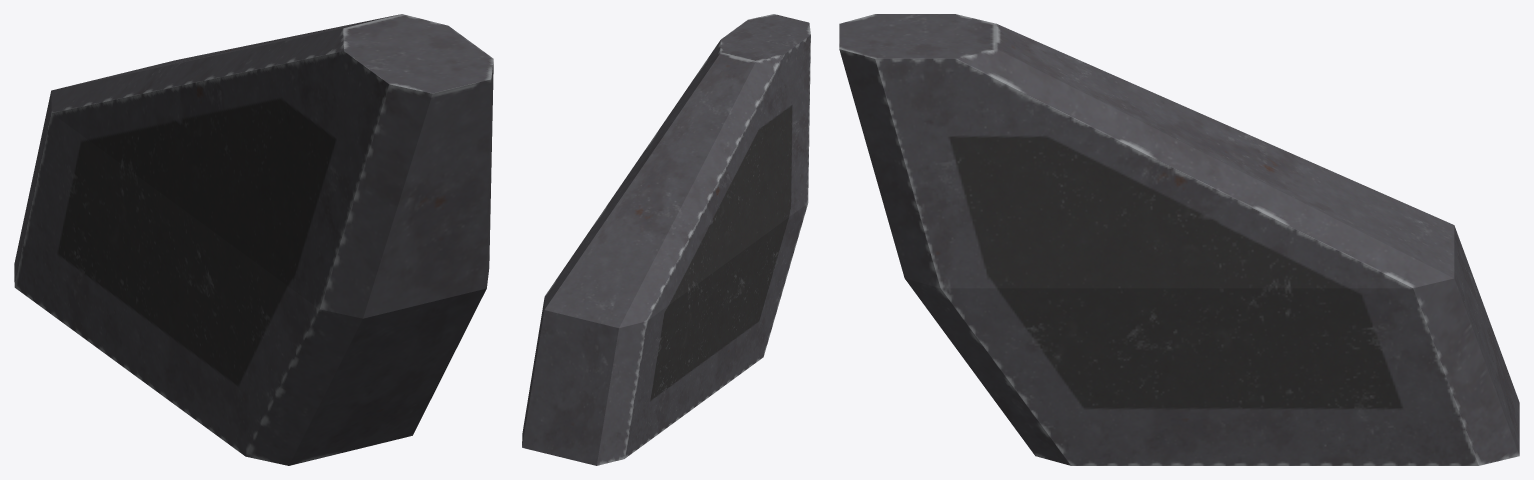
File: conn_s_1.fbx
The picture shows the model from 3 angles, left to right: view 1: azimuth 30°, elevation 25°; view 2: azimuth 150°, elevation 25°; view 3: azimuth 270°, elevation 25°; orthographic projection. The views are drawn at different scales.
Visible parts, largest first — view 1: conn_s_1; view 2: conn_s_1; view 3: conn_s_1.
Part boxes in pixels (x1=…): conn_s_1: x1=14, y1=14, x2=493, y2=465; conn_s_1: x1=522, y1=14, x2=810, y2=465; conn_s_1: x1=839, y1=14, x2=1519, y2=465.
Size of the model in its own units: 2.64 by 6.63 by 10.41.
